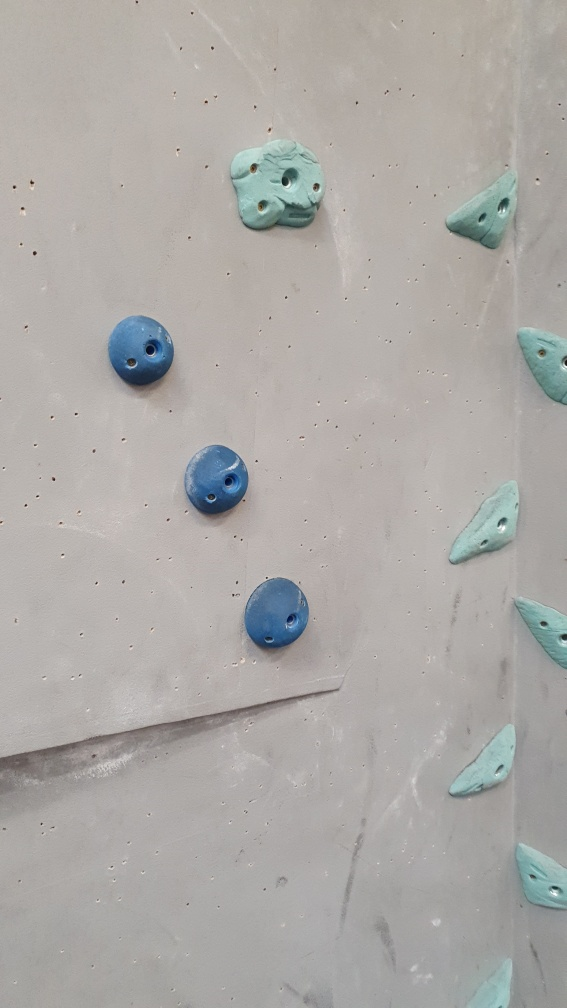Crimp: (440, 167, 529, 254), (442, 472, 521, 568), (437, 714, 522, 802), (508, 316, 567, 410), (506, 591, 567, 669), (509, 838, 567, 913)
Sloper: (241, 570, 318, 659), (101, 304, 181, 389), (181, 431, 252, 521)
